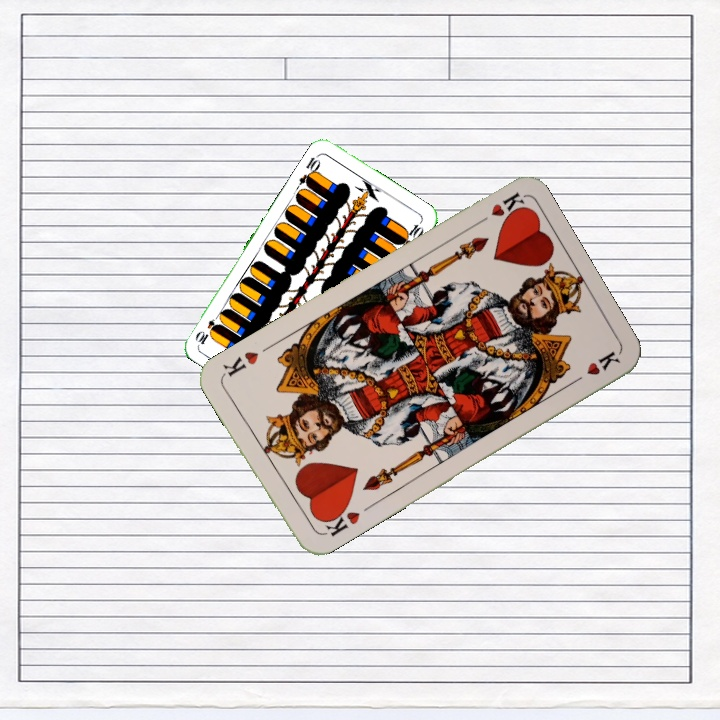E10: (295, 150, 323, 190)
HK: (470, 188, 528, 229), (317, 500, 363, 539)
